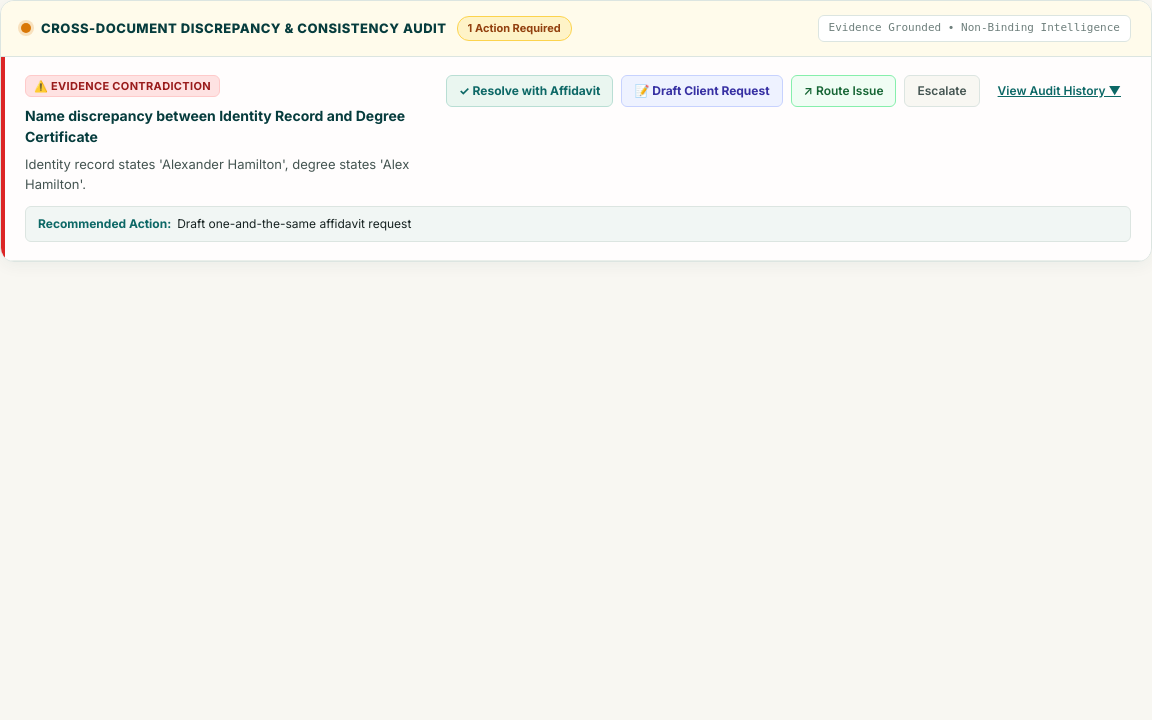
Test: Phase 10 — AI Assistance, Traceability & Guardrails › CaseDiscrepancyAlertCenter — Draft Client Request from Approved Templates › renders draft client request button for authorized staff and opens drafting drawer
# Click to open draft drawer
Step 1. Click the button with test id "draft-request-btn-finding-phase10-01" → (702, 90), box left=622, top=74, right=783, bottom=106
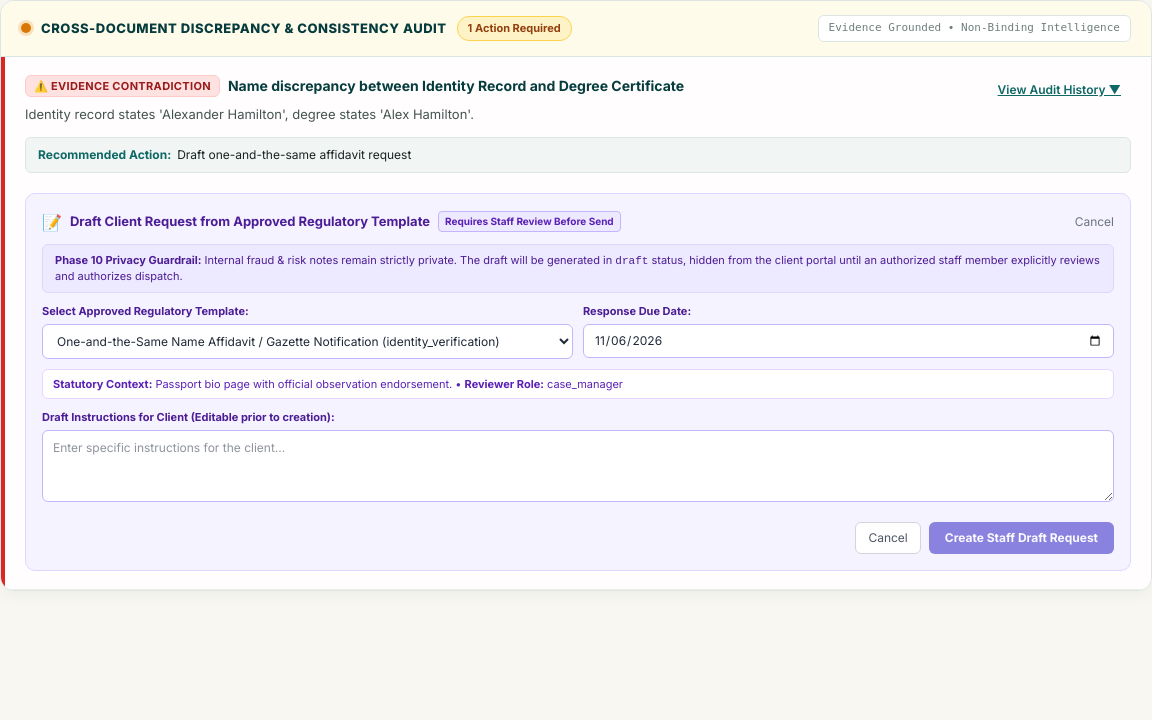
expect the element with test id "draft-client-request-drawer" is shown: met, box left=25, top=192, right=1131, bottom=571
expect the text "Phase 10 Privacy Guardrail:" is shown: met, box left=55, top=252, right=202, bottom=266
expect the text "Internal fraud & risk notes remain strictly private" is shown: met, box left=202, top=252, right=615, bottom=266
